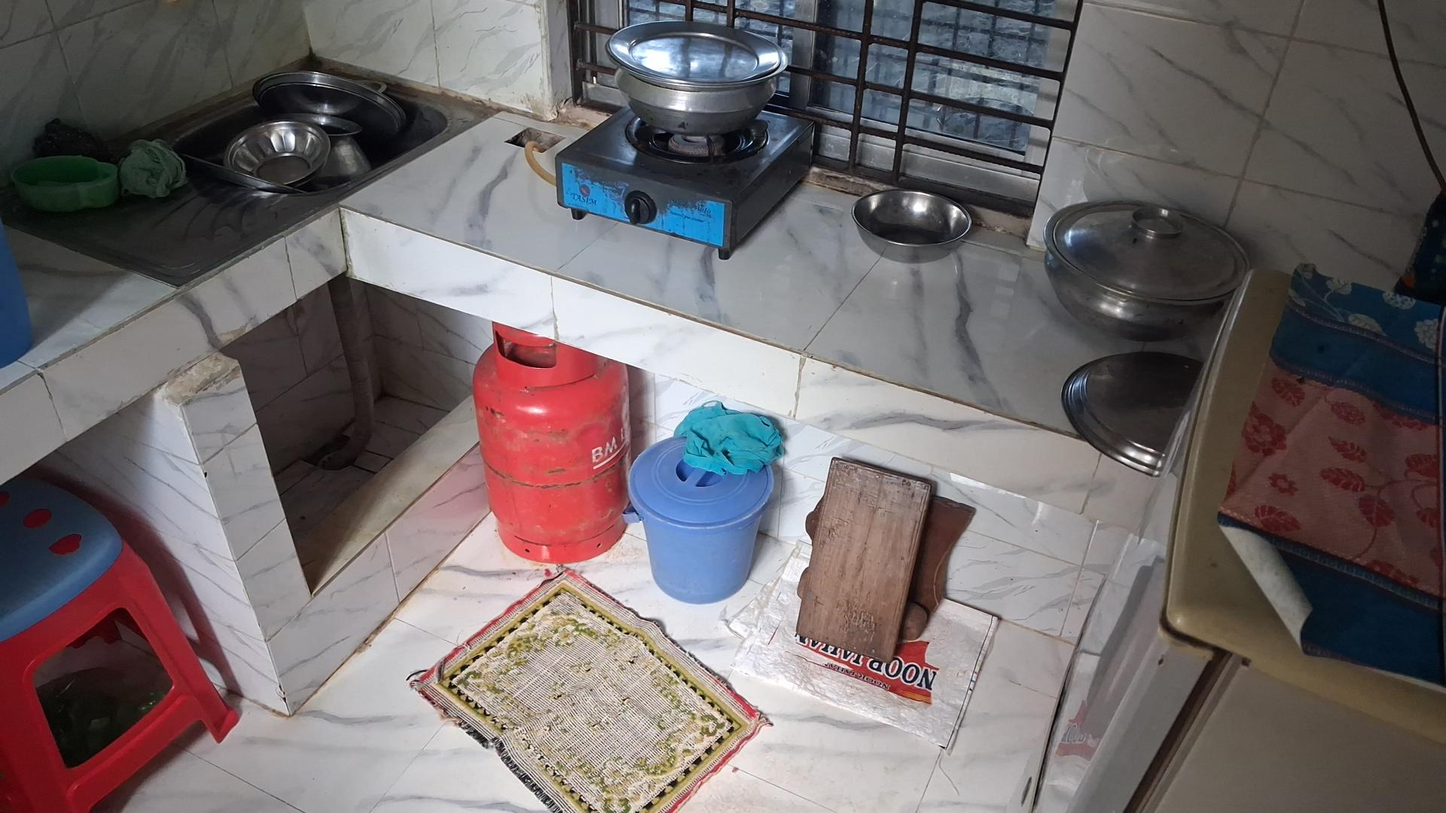Bowl: (852, 189, 972, 264), (221, 123, 342, 189)
Bucket: (630, 450, 775, 605)
Floor Mat: (406, 574, 767, 813)
Jar: (10, 154, 122, 213)
Plate: (1057, 352, 1208, 470)
Pot: (1044, 198, 1251, 340), (610, 20, 787, 131)
Stool: (0, 485, 234, 813)
